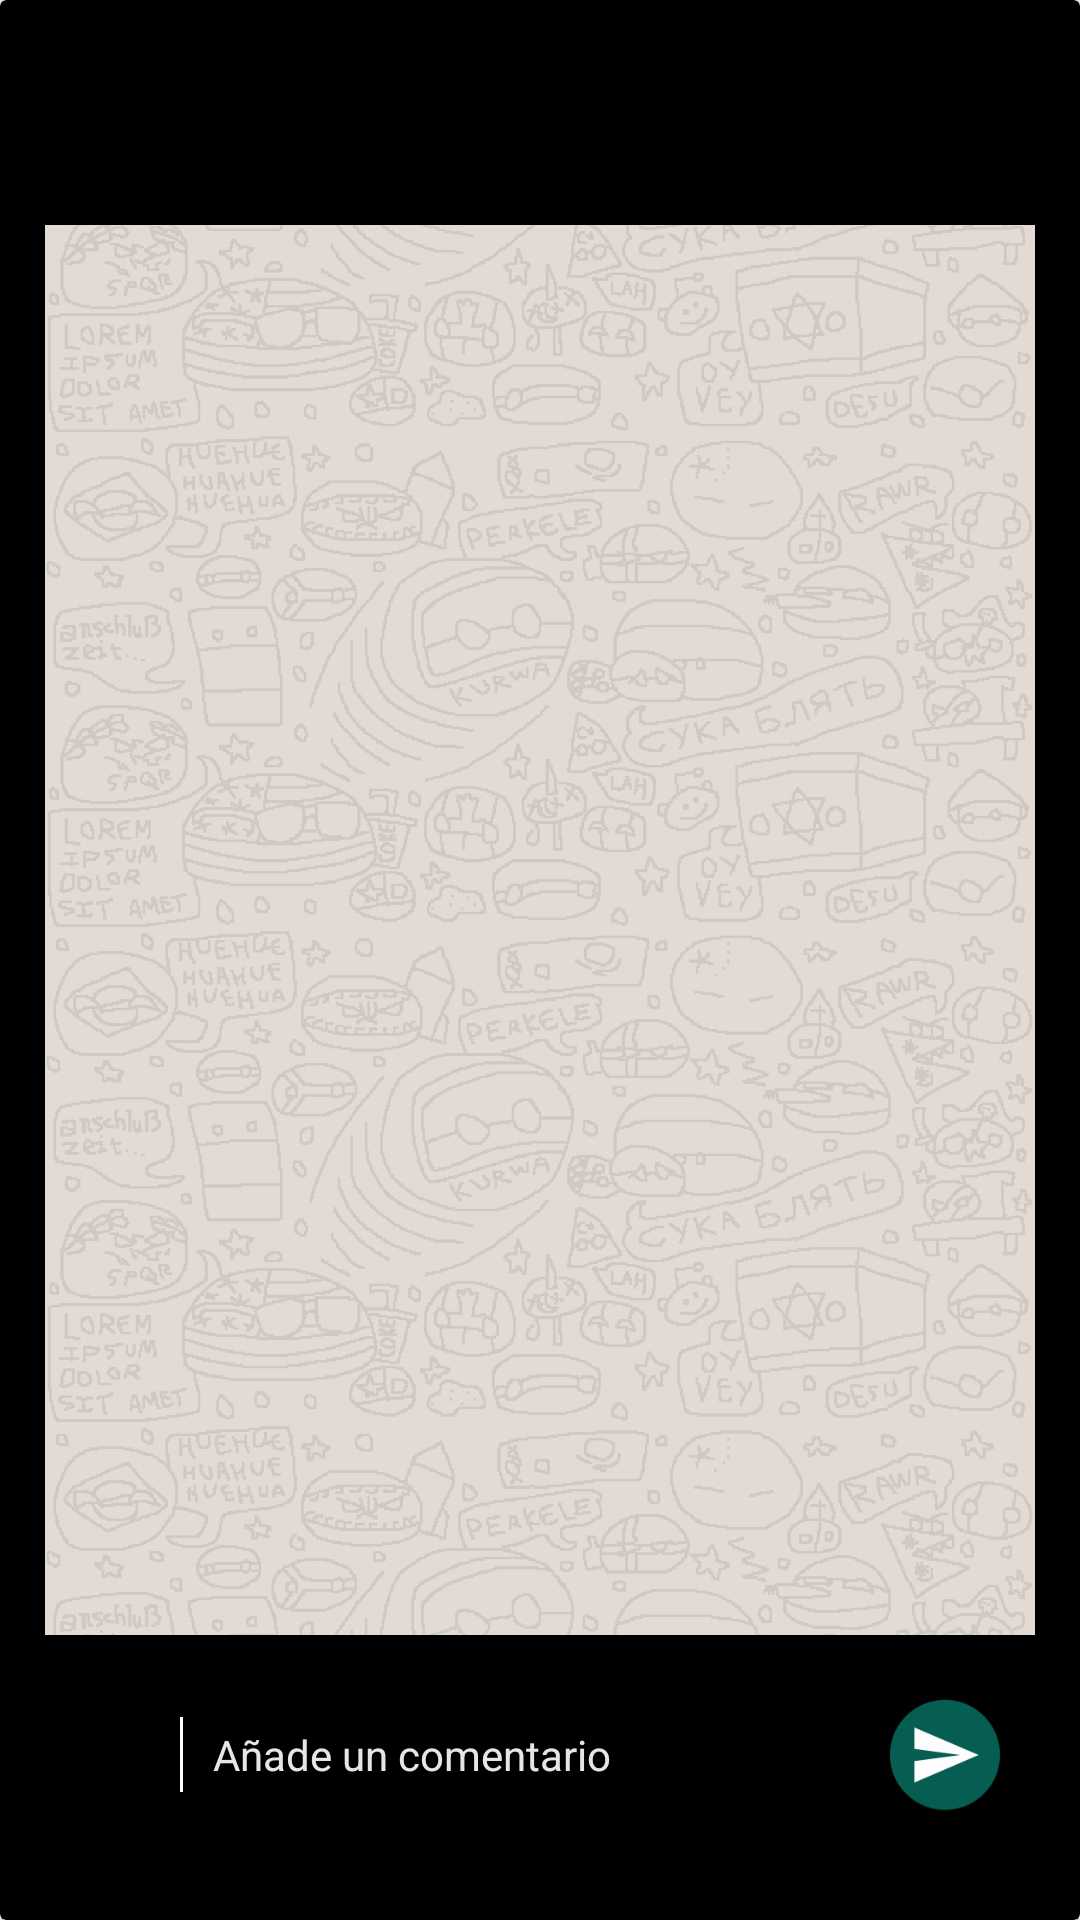

Locate icon controls on the screen. Image size 1080 × 1920, boxes as (x1, y1, x2, y2).
send: (890, 1700, 1000, 1810)
